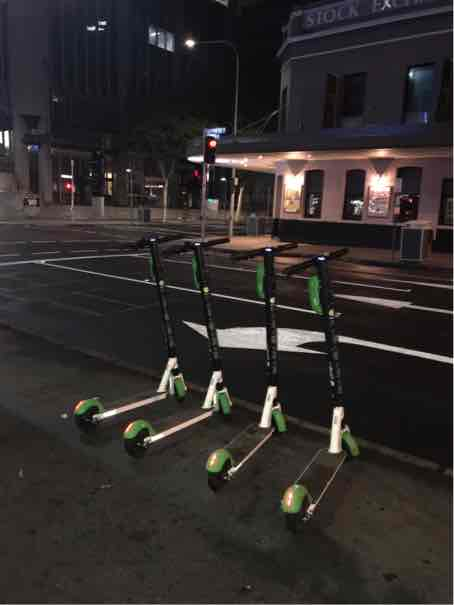too close: (312, 412, 372, 462), (247, 393, 305, 443), (148, 362, 199, 406), (196, 378, 240, 425)
